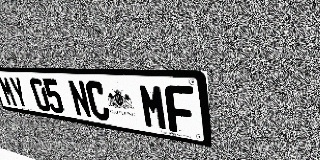0: (28, 78, 52, 112)
5: (42, 78, 66, 114)
C: (84, 80, 111, 122)
F: (164, 85, 196, 135)
M: (138, 83, 169, 131), (0, 76, 18, 107)
N: (67, 80, 93, 119)
Y: (8, 77, 30, 109)
